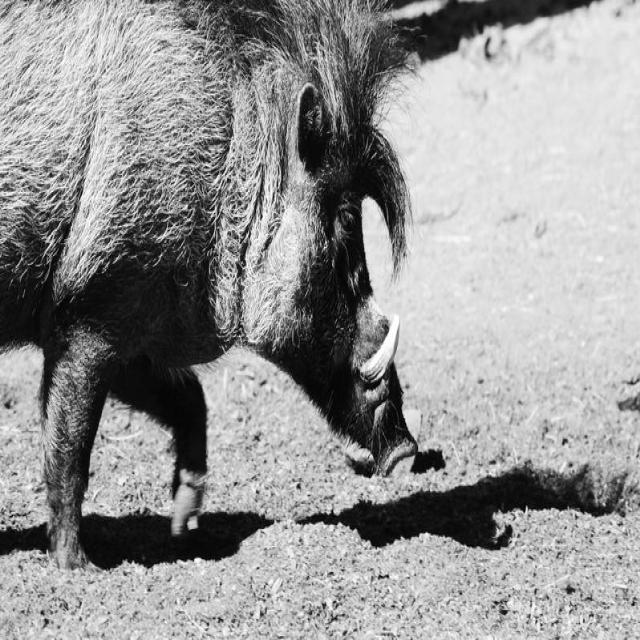pig: (0, 2, 416, 568)
